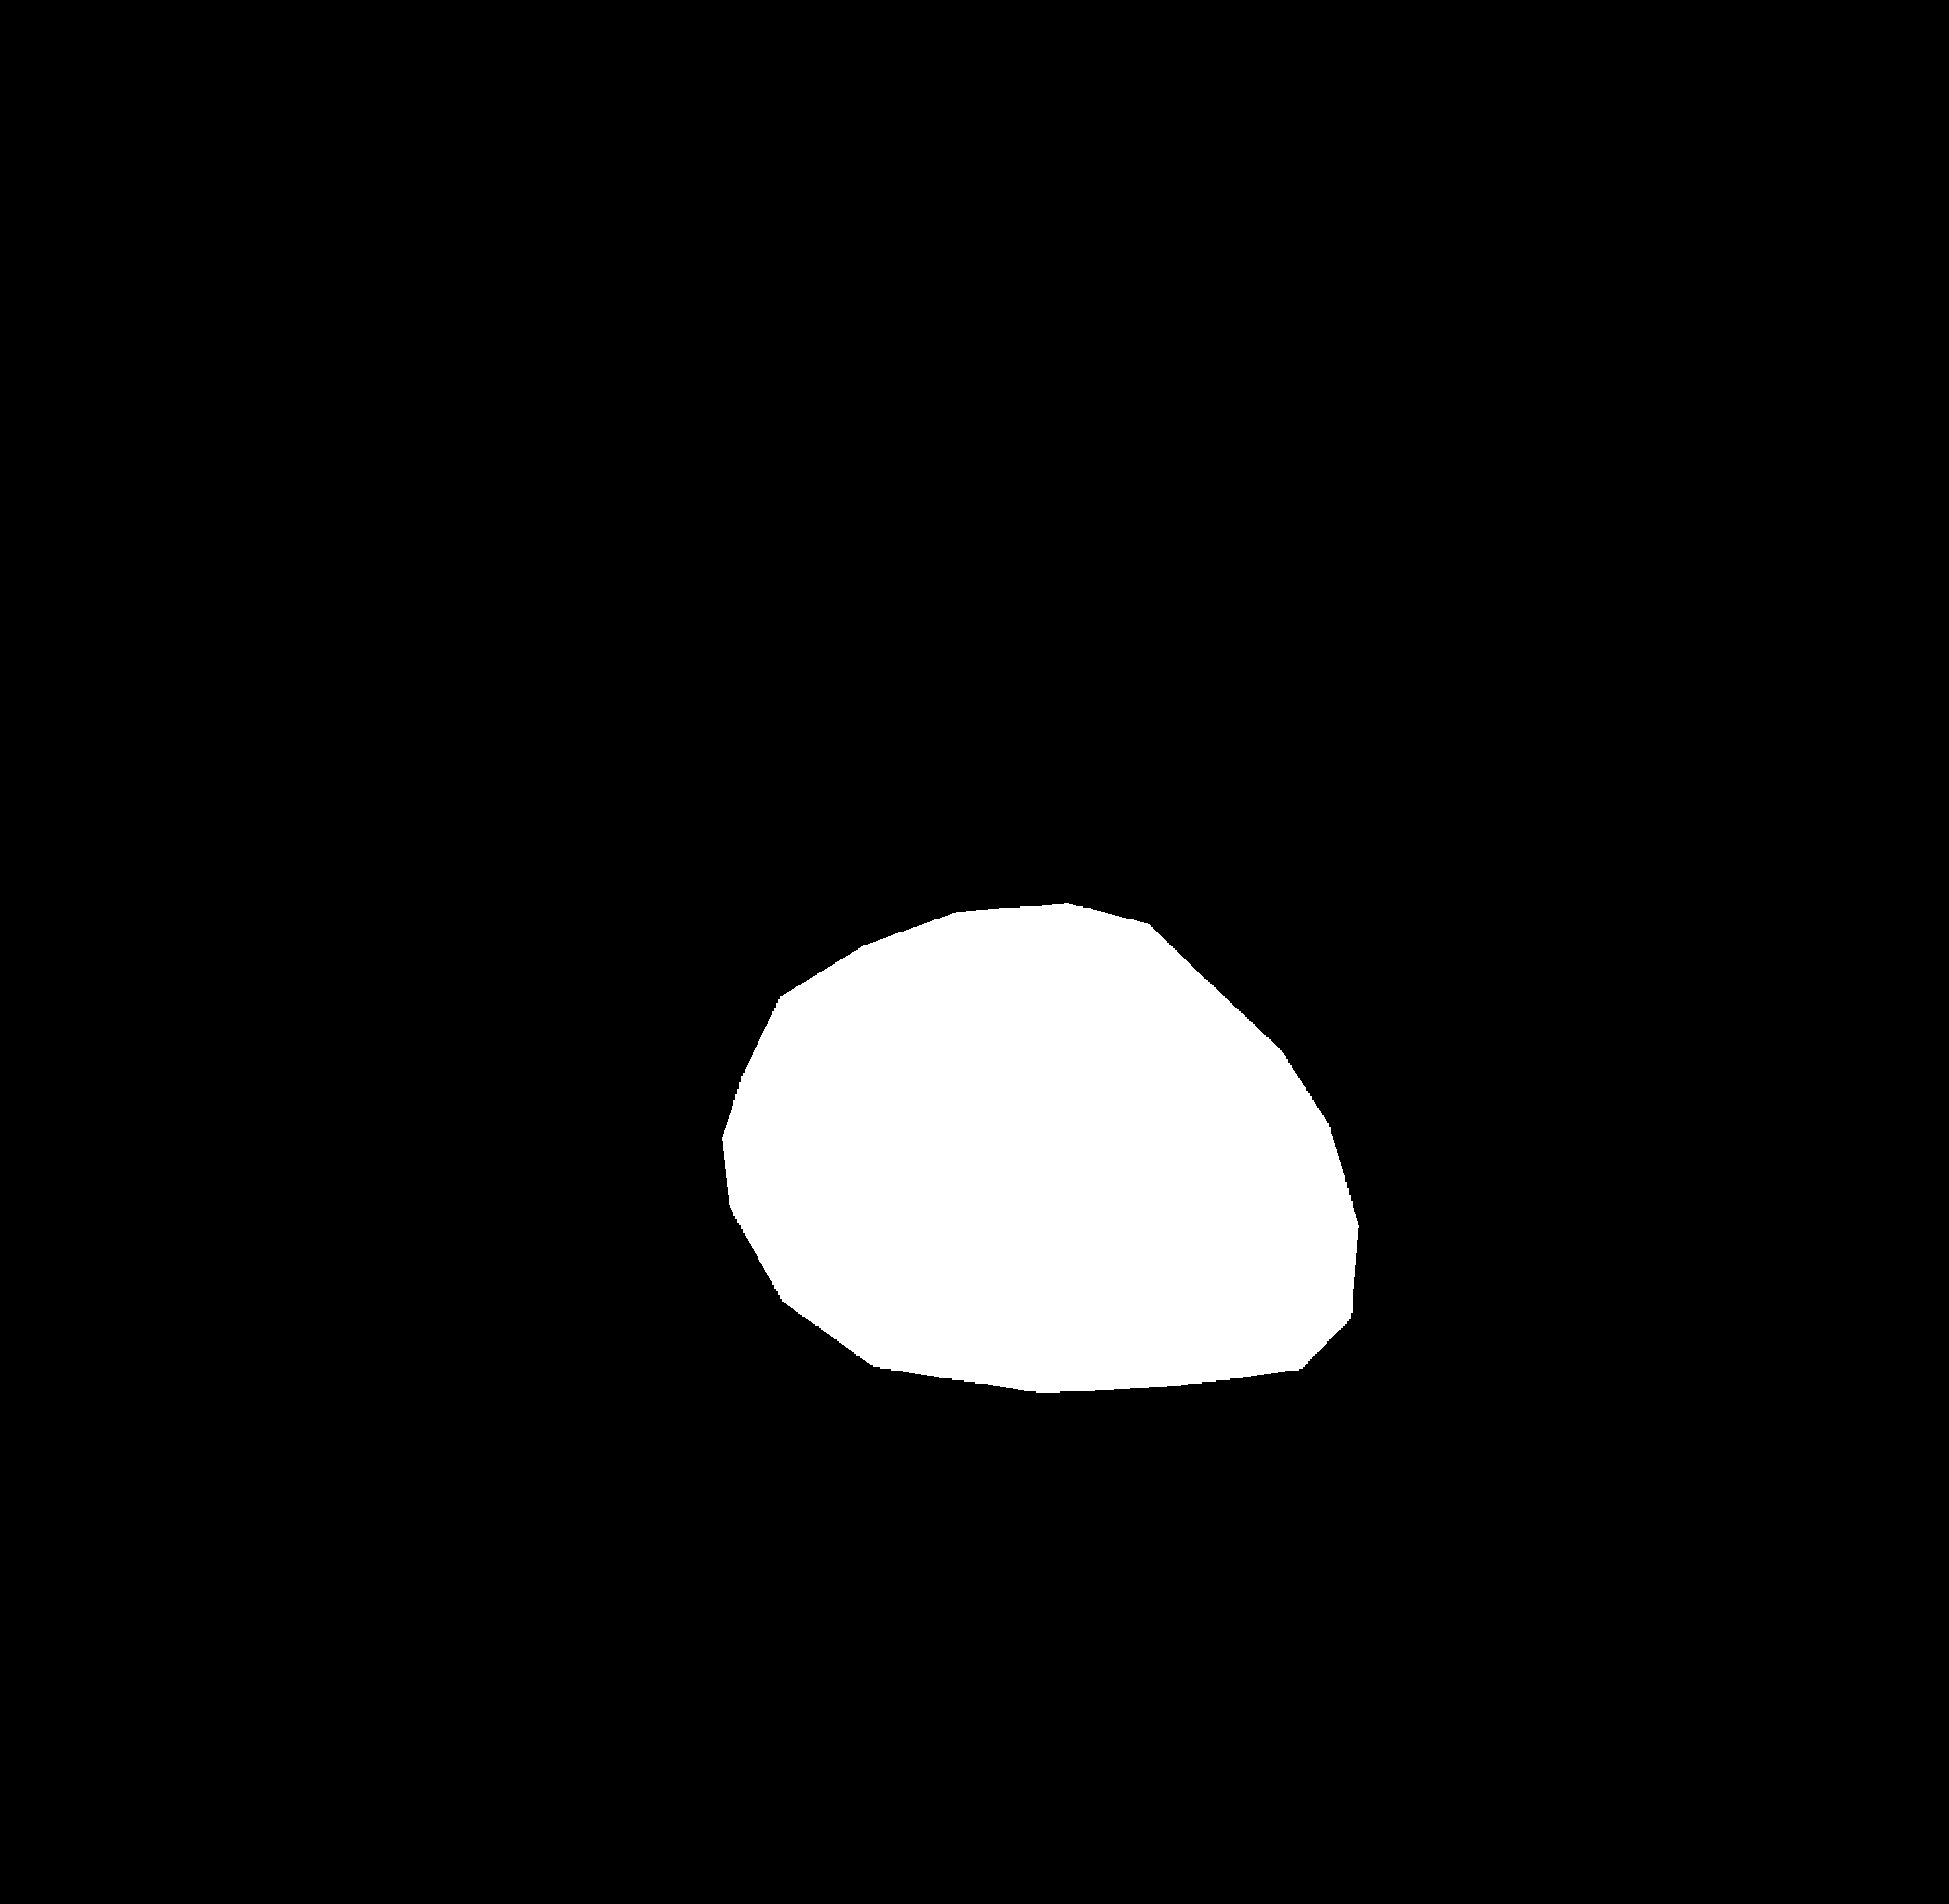heart: (727, 968, 1370, 1435)
left_lung: (162, 256, 872, 1547)
right_lung: (1002, 282, 1710, 1574)
